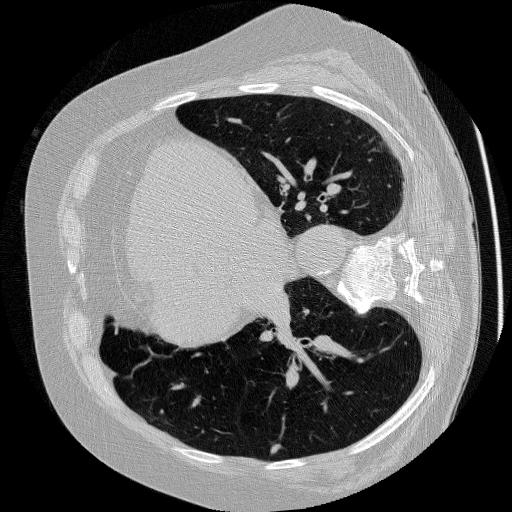nodule: (269, 443, 283, 457)
